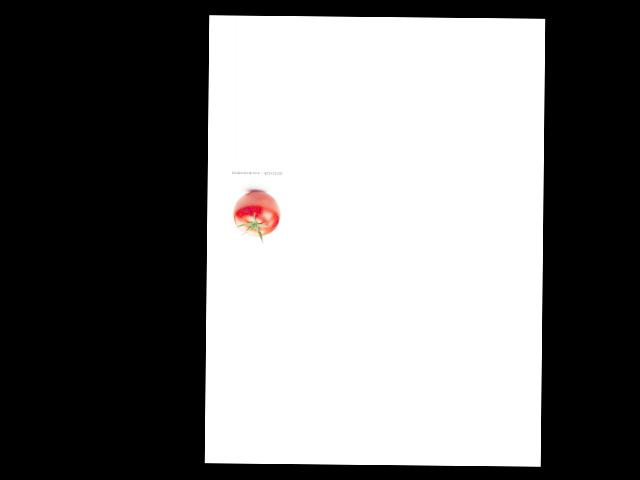tomato: (233, 190, 280, 236)
